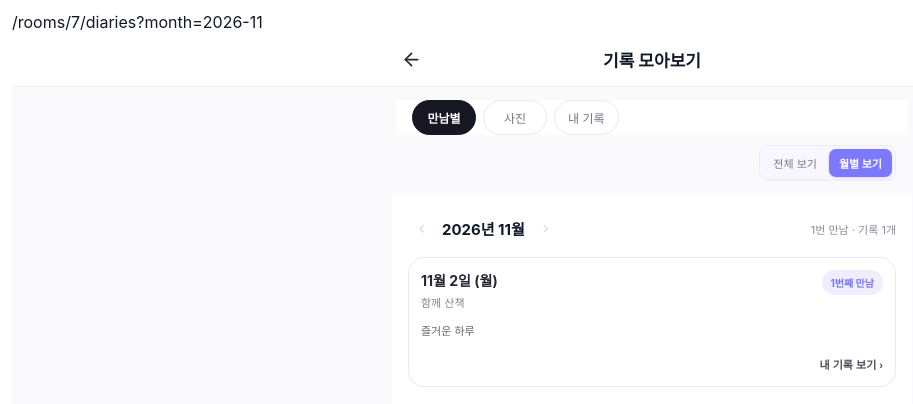
Test case: back returns to the room calendar with entry state /rooms/7?tab=calendar
Expected: the text "즐거운 하루" is shown, [421,324,475,338]
Click the button named "뒤로 가기".
click(411, 59)  # box [392,40,430,78]
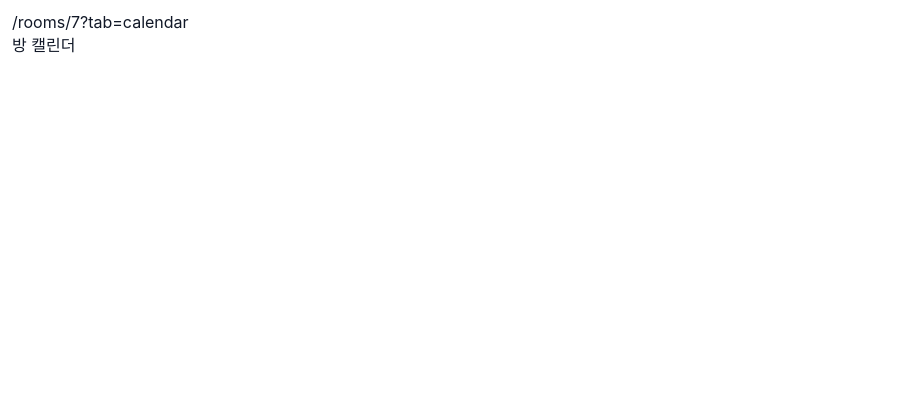
Now the text "방 캘린더" is shown, box [12,35,75,55]
Now the text with test id "current-route" reads "/rooms/7?tab=calendar", box [12,12,189,32]
